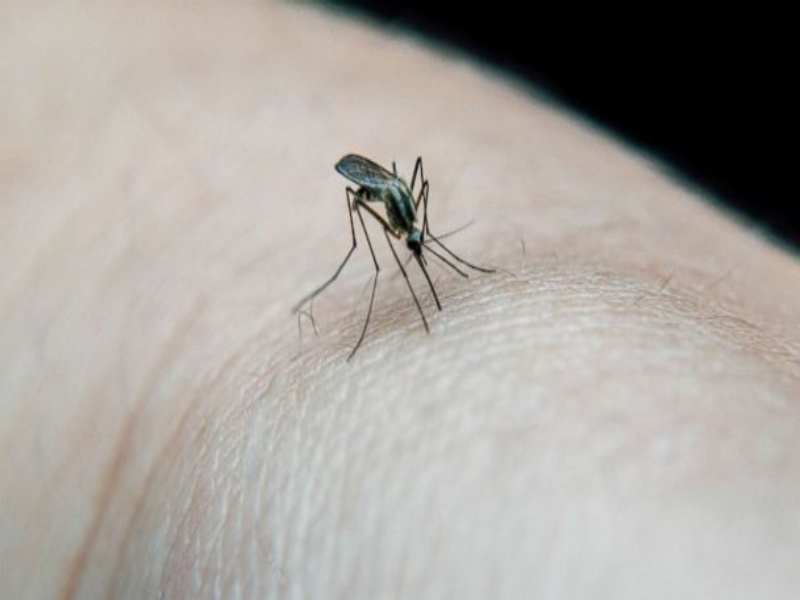dengue_mosquito: (325, 151, 498, 325)
